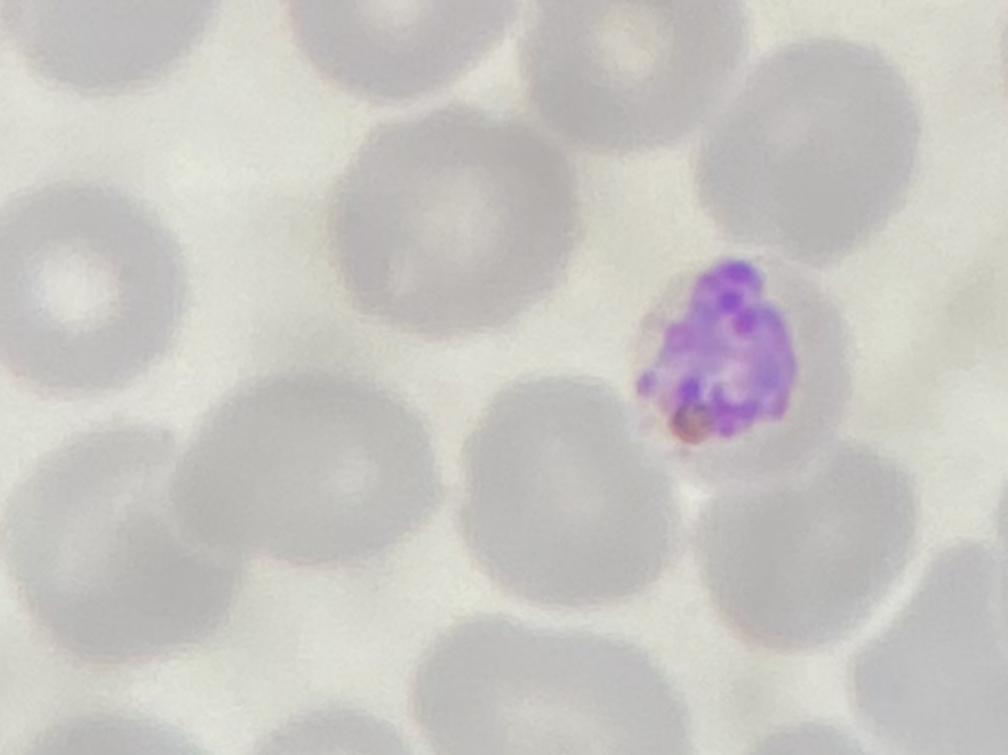Infected: (623, 259, 855, 477)
Uninfected: (333, 105, 585, 333), (174, 363, 440, 574), (1, 423, 232, 664), (455, 376, 684, 611), (695, 36, 915, 260), (696, 445, 915, 655), (410, 616, 695, 755), (0, 182, 189, 391), (530, 0, 750, 153), (850, 543, 1008, 750)
